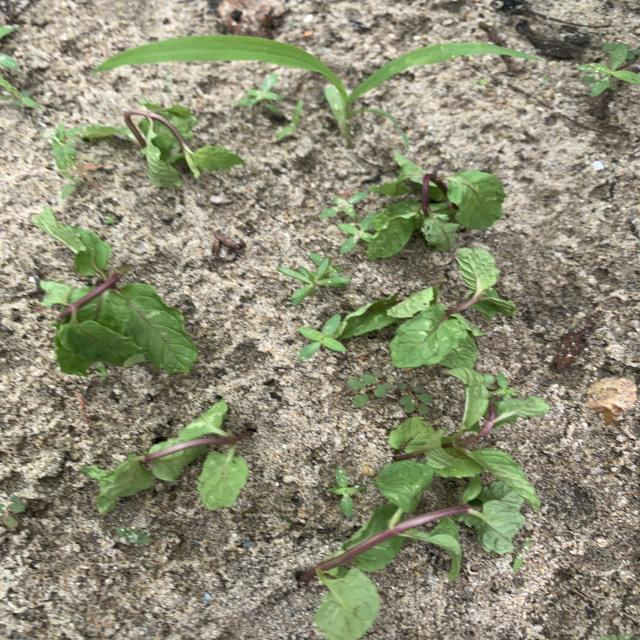crop: (314, 461, 523, 639), (33, 209, 196, 375), (388, 368, 547, 504), (339, 248, 515, 367), (80, 400, 250, 514), (367, 151, 502, 257), (85, 99, 242, 186)
weed: (94, 36, 542, 131), (278, 254, 350, 304), (577, 44, 639, 95), (48, 129, 99, 191), (299, 315, 346, 359), (348, 370, 393, 406), (329, 468, 363, 515), (238, 76, 281, 107), (340, 214, 375, 252), (0, 78, 42, 109), (322, 192, 367, 218), (396, 381, 431, 414), (276, 102, 302, 143), (0, 496, 26, 528), (512, 540, 531, 571), (116, 527, 151, 543)
